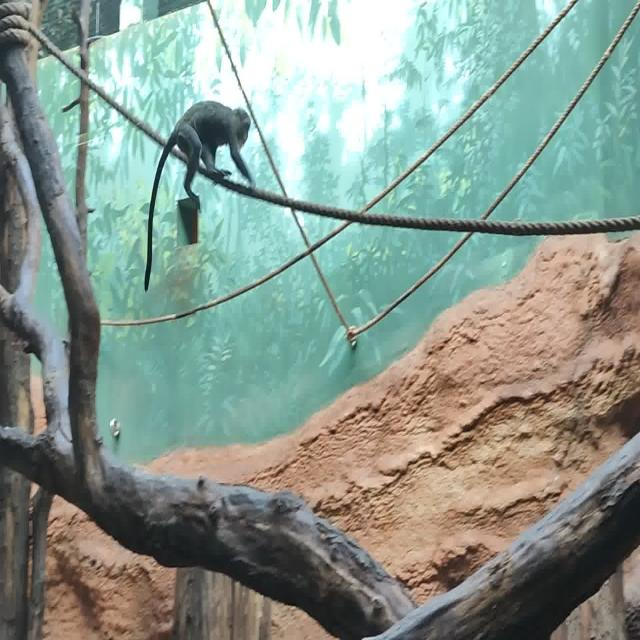monkey: (144, 100, 256, 293)
